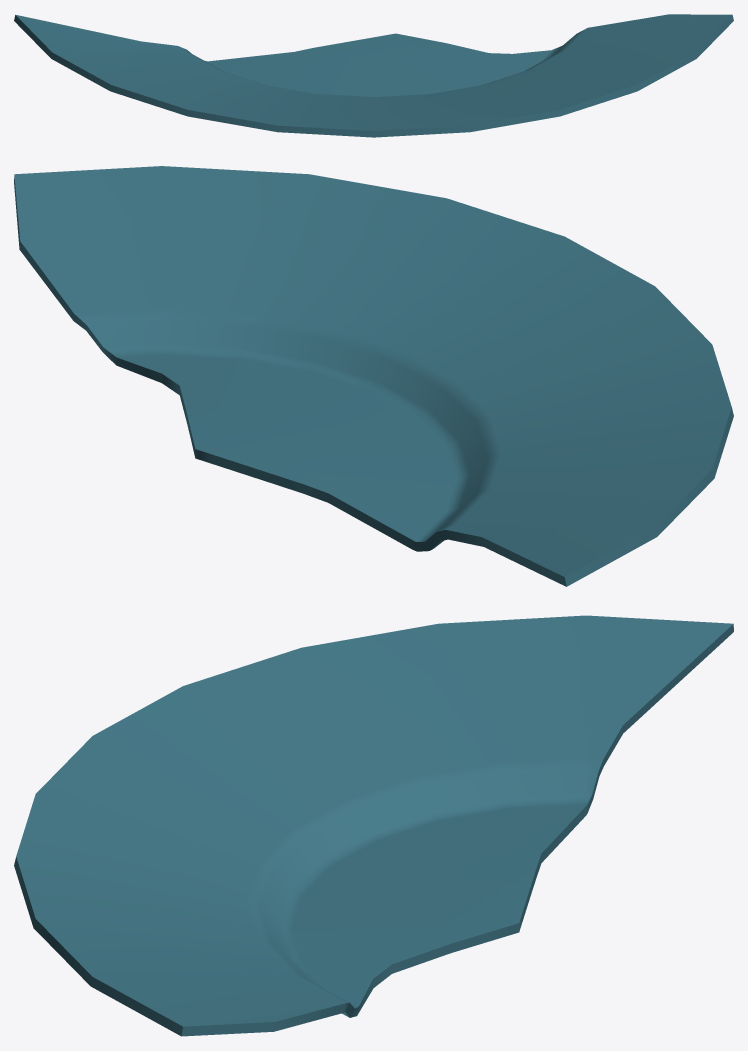
File: SM_SmallTrashkit_Plat2_002.fbx
3 renders of one model, top to bottom at view 1: azimuth 30°, elevation 25°; view 2: azimuth 150°, elevation 25°; view 3: azimuth 270°, elevation 25°, orthographic. The views are drawn at different scales.
Parts seen in each view (by area): view 1: SM_SmallTrashkit_Plat2_002; view 2: SM_SmallTrashkit_Plat2_002; view 3: SM_SmallTrashkit_Plat2_002.
Boxes of the visible parts, left/top/right/bottom form: SM_SmallTrashkit_Plat2_002: left=14, top=14, right=733, bottom=137; SM_SmallTrashkit_Plat2_002: left=14, top=166, right=733, bottom=586; SM_SmallTrashkit_Plat2_002: left=14, top=615, right=733, bottom=1036.
Size of the model in its own units: 36.87 by 3.41 by 27.18.
